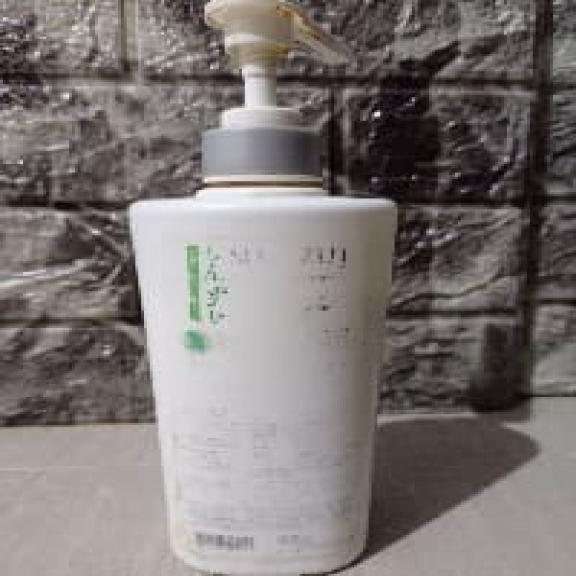Plastik: (131, 0, 396, 574)
